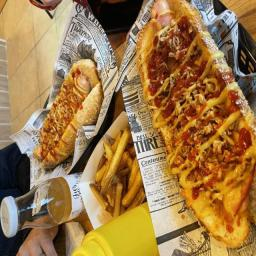hotdog: (128, 0, 256, 247), (30, 48, 100, 178)
